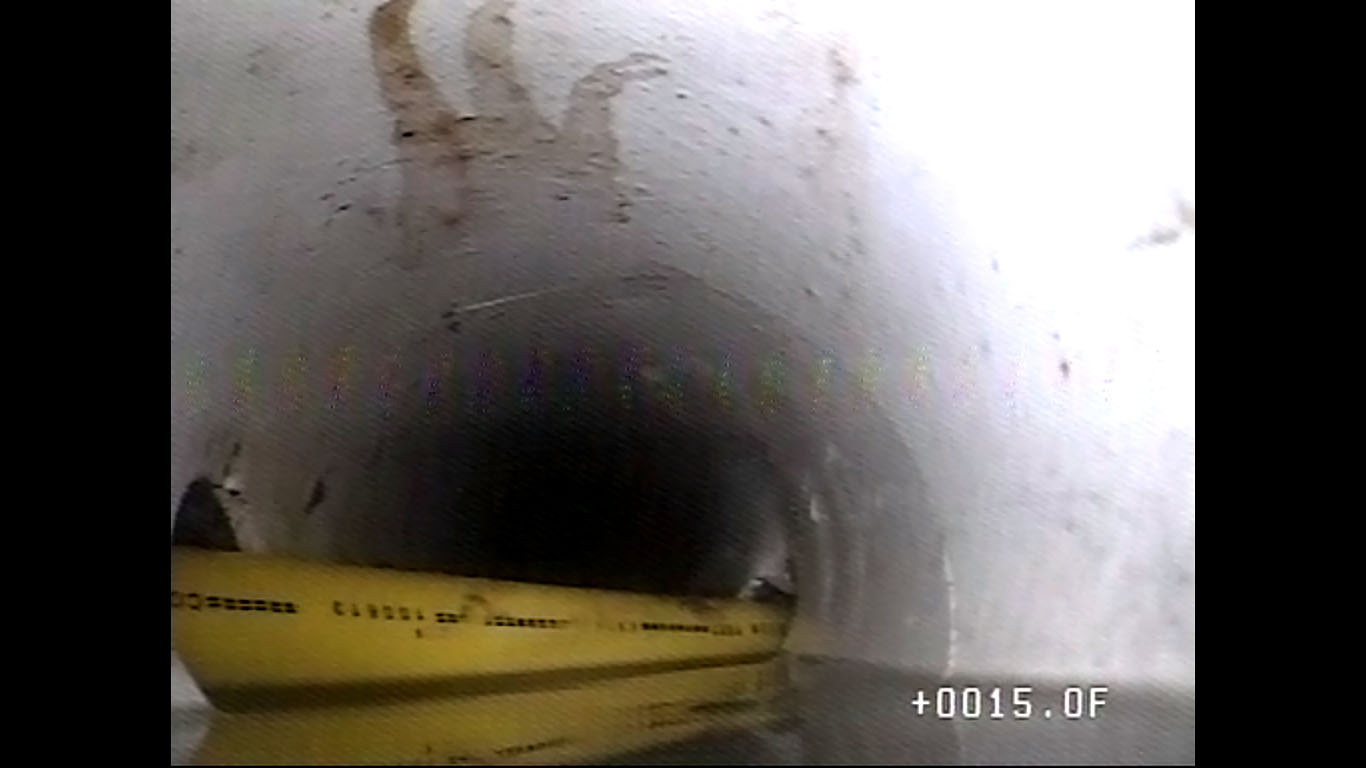cb: (159, 533, 829, 707)
